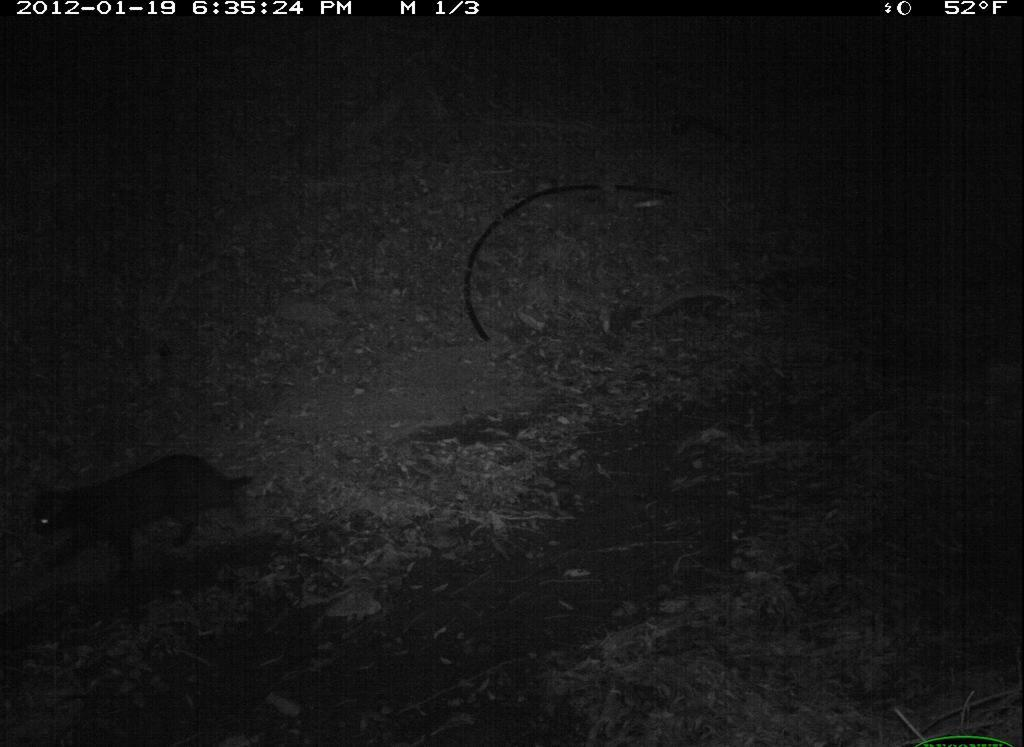cat: (24, 442, 264, 597)
